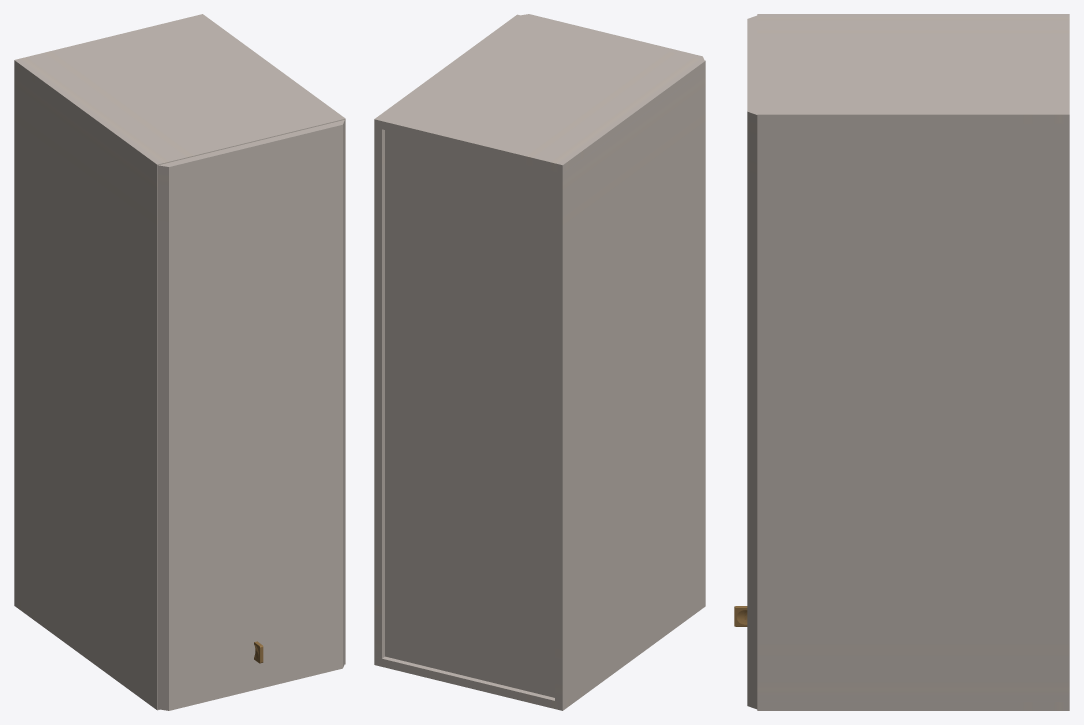
3 views of the same model, side by side, from view 1: azimuth 30°, elevation 25°; view 2: azimuth 150°, elevation 25°; view 3: azimuth 270°, elevation 25° (orthographic). The views are drawn at different scales.
Visible parts, largest first — view 1: Object_85.010; view 2: Object_85.010; view 3: Object_85.010.
Part boxes in pixels (left/top/right/bottom): Object_85.010: left=14, top=14, right=345, bottom=710; Object_85.010: left=374, top=14, right=705, bottom=710; Object_85.010: left=734, top=14, right=1069, bottom=710.
Size of the model in its own units: 0.434 by 1.2 by 0.6121.
2 materials, 2 textured.
